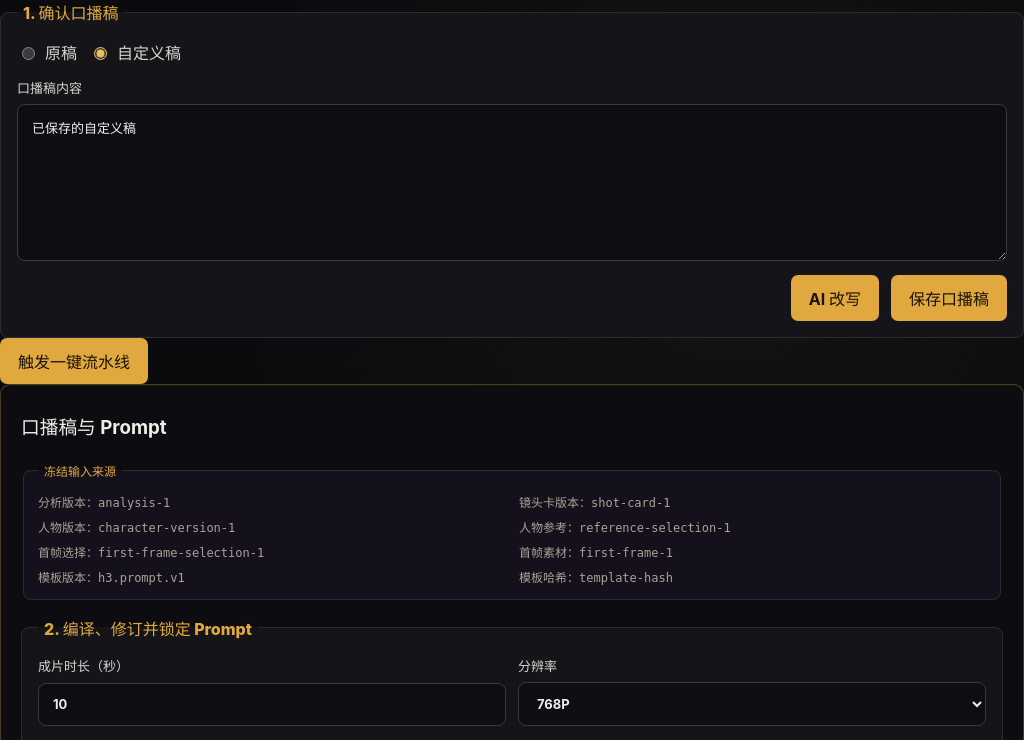
Test: GenerationComposer › requires saving visible script edits before prompt compilation
The image size is (1024, 740).
Replace the text in the text box labelled "口播稿内容" with "尚未保存的新稿" at {"x": 512, "y": 182}, box [17, 104, 1007, 261]
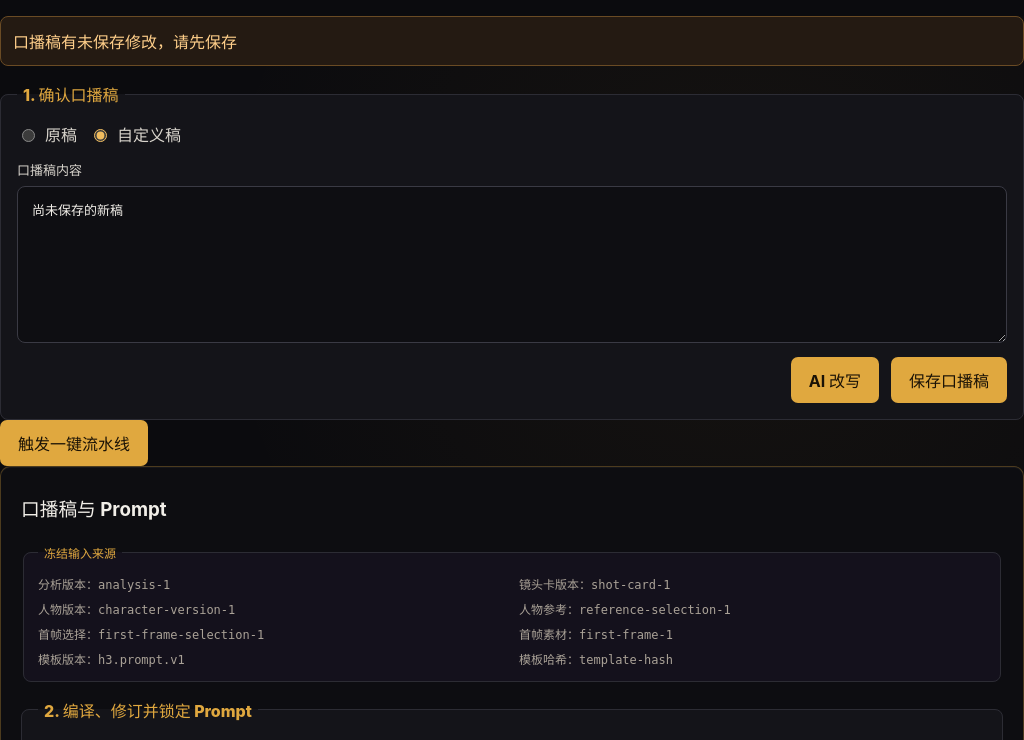
Result: the text "口播稿有未保存修改，请先保存" is shown at [0, 16, 1023, 66]
